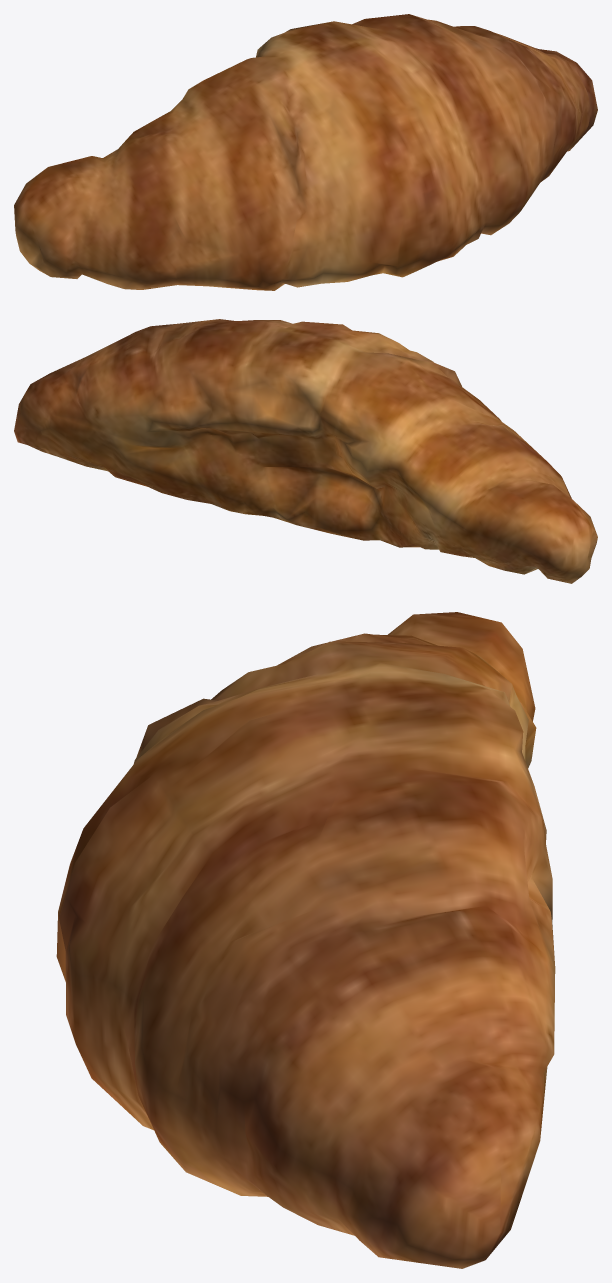
The model's file is ph_croissant.glb.
The picture shows the model from 3 angles, top to bottom: view 1: azimuth 30°, elevation 25°; view 2: azimuth 150°, elevation 25°; view 3: azimuth 270°, elevation 25°; orthographic projection. The views are drawn at different scales.
Parts seen in each view (by area): view 1: croissant; view 2: croissant; view 3: croissant.
Part boxes in pixels (left/top/right/bottom): croissant: left=14, top=14, right=597, bottom=290; croissant: left=14, top=319, right=597, bottom=583; croissant: left=56, top=612, right=555, bottom=1268.
Bounding box in the file's own units: 0.1993 × 0.0617 × 0.0755.
Materials: 1 (1 with a texture image).
